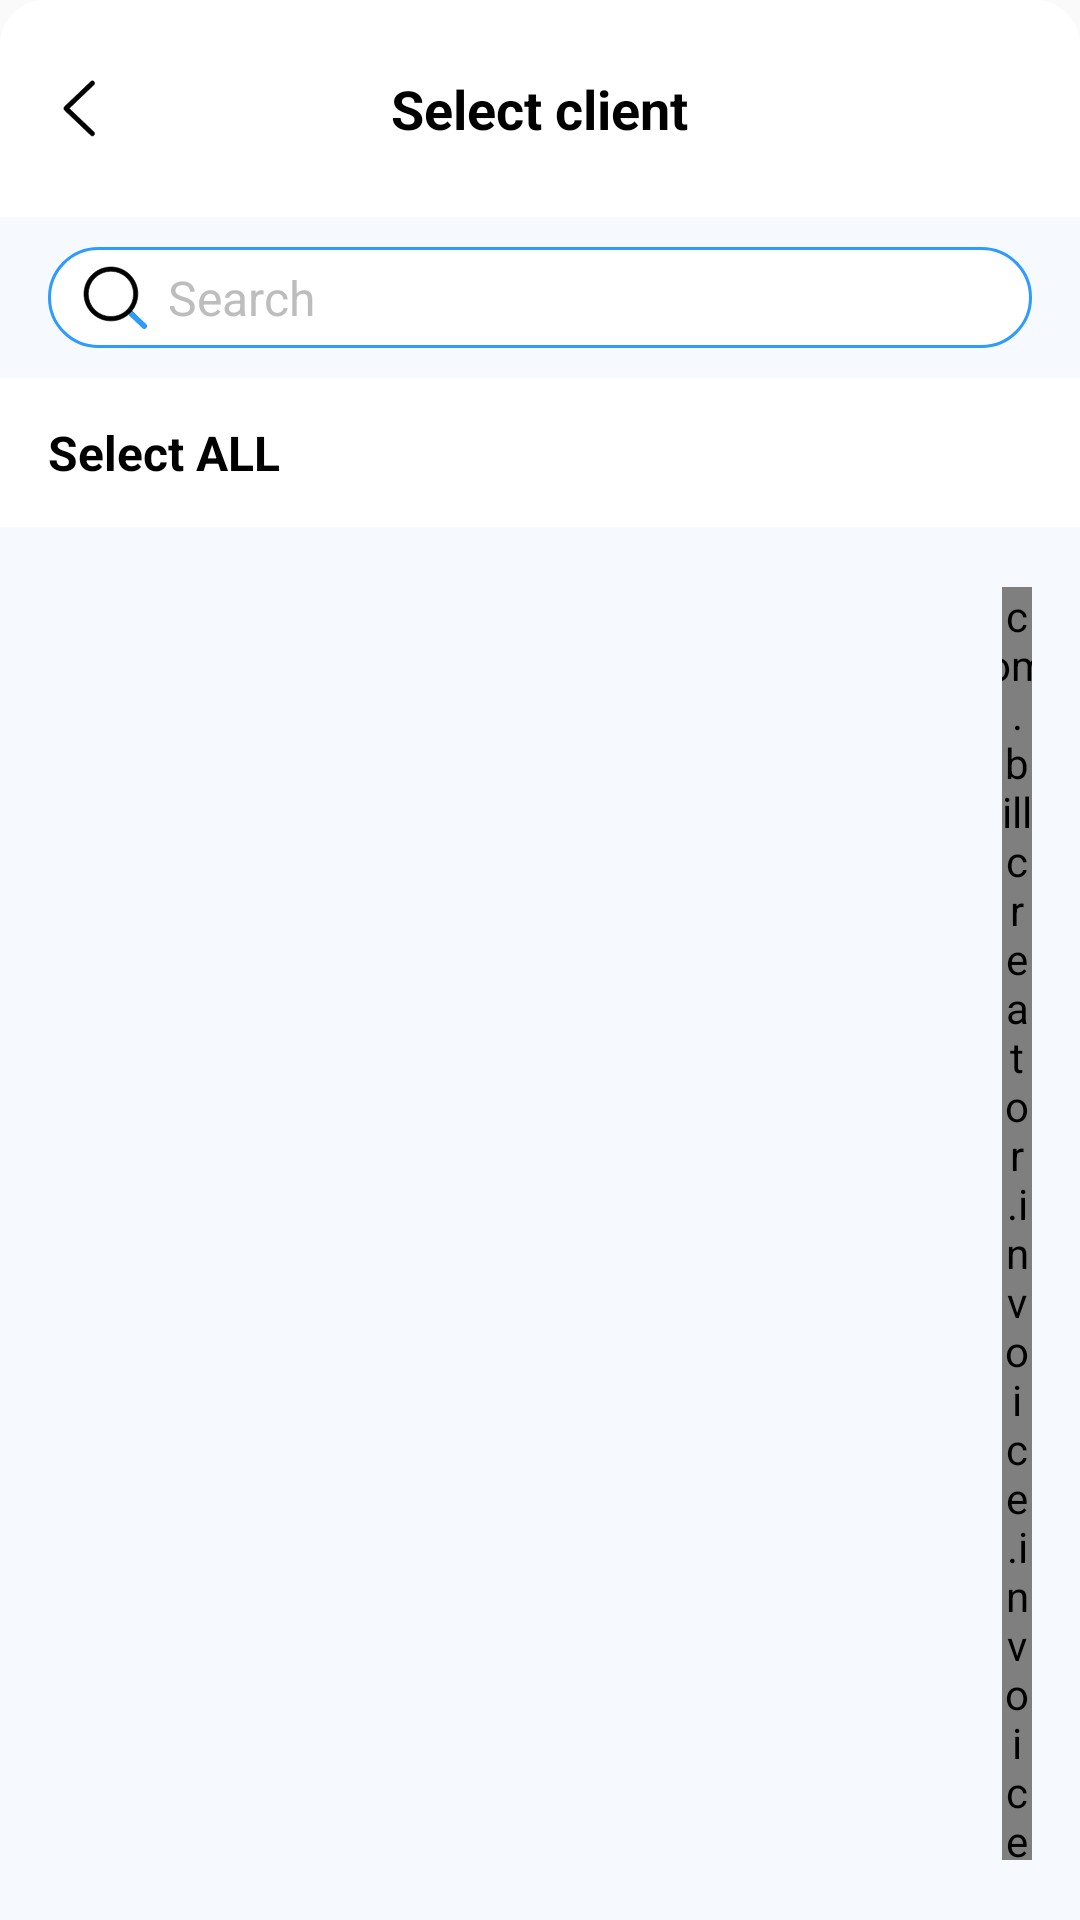

Locate icon controls on the screen. Image size 1080px×1920px, boxes as Rect(x1, y1, x2, y2).
back: Rect(63, 80, 95, 137)
